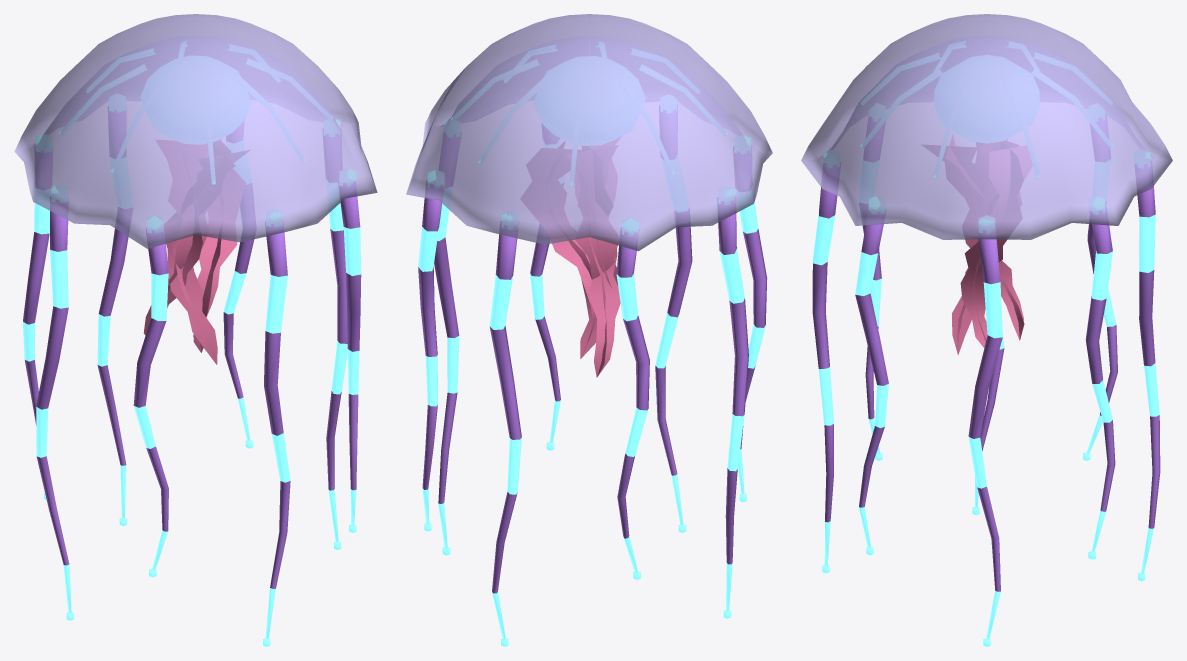
Rendered from creature_floater.glb.
The picture shows the model from 3 angles, left to right: view 1: azimuth 30°, elevation 25°; view 2: azimuth 150°, elevation 25°; view 3: azimuth 270°, elevation 25°; orthographic projection. The views are drawn at different scales.
Parts seen in each view (by area): view 1: Bell, Tentacle_07, Tentacle_05, Tentacle_03, Tentacle_01, Tentacle_06, Tentacle_08, Tentacle_04, Tentacle_02; view 2: Bell, Tentacle_03, Tentacle_05, Tentacle_07, Tentacle_01, Tentacle_04, Tentacle_02, Tentacle_06, Tentacle_08; view 3: Bell, Tentacle_01, Tentacle_03, Tentacle_07, Tentacle_08, Tentacle_02, Tentacle_04, Tentacle_06, Tentacle_05.
Part boxes in pixels (x1,y1,x2,y2): Bell: [14, 14, 377, 364]; Tentacle_07: [263, 209, 290, 646]; Tentacle_05: [36, 185, 73, 620]; Tentacle_03: [97, 94, 132, 526]; Tentacle_01: [323, 119, 347, 550]; Tentacle_06: [133, 216, 168, 577]; Tentacle_08: [338, 169, 361, 532]; Tentacle_04: [23, 134, 52, 499]; Tentacle_02: [223, 122, 255, 448]; Bell: [406, 14, 772, 377]; Tentacle_03: [489, 211, 521, 646]; Tentacle_05: [717, 186, 748, 618]; Tentacle_07: [655, 95, 692, 532]; Tentacle_01: [434, 120, 461, 555]; Tentacle_04: [616, 218, 649, 579]; Tentacle_02: [418, 170, 444, 531]; Tentacle_06: [733, 135, 767, 502]; Tentacle_08: [530, 124, 563, 450]; Bell: [801, 14, 1172, 355]; Tentacle_01: [968, 216, 1002, 646]; Tentacle_03: [1134, 150, 1160, 581]; Tentacle_07: [812, 150, 840, 573]; Tentacle_08: [855, 196, 888, 554]; Tentacle_02: [1085, 196, 1115, 559]; Tentacle_04: [1083, 104, 1117, 460]; Tentacle_06: [859, 104, 885, 460]; Tentacle_05: [972, 332, 1004, 515].
Bounding box in the file's own units: 3.35 × 5.44 × 3.35.
